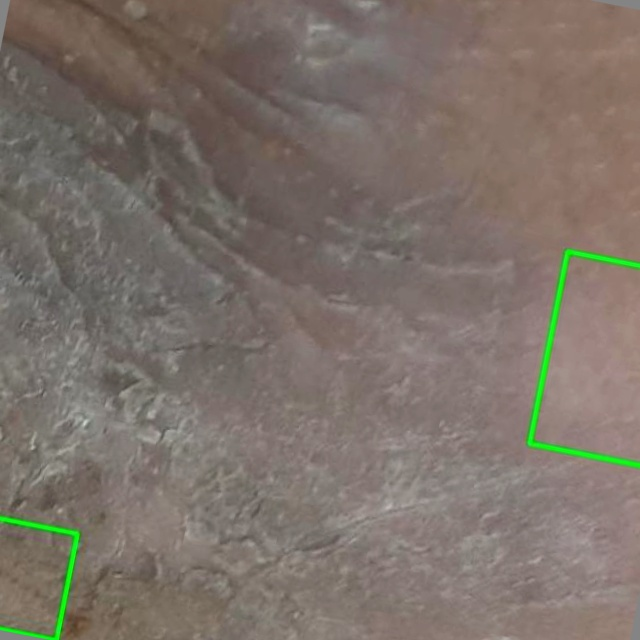Eczema: (529, 251, 639, 465)
